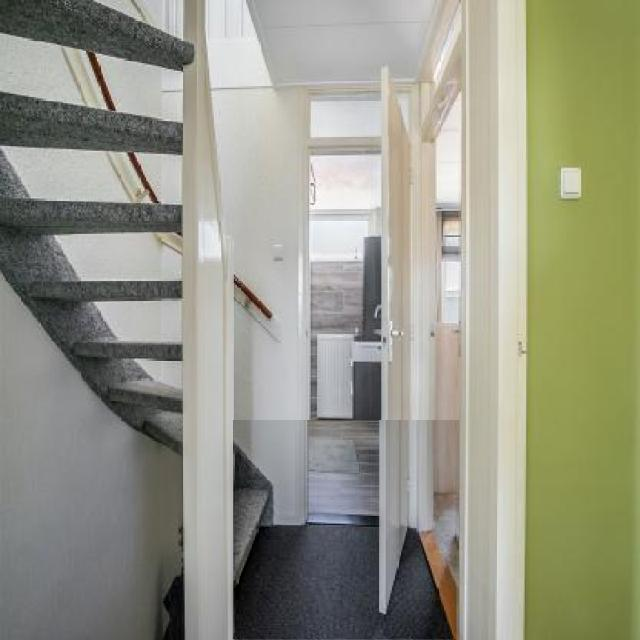floor: (234, 421, 460, 639)
